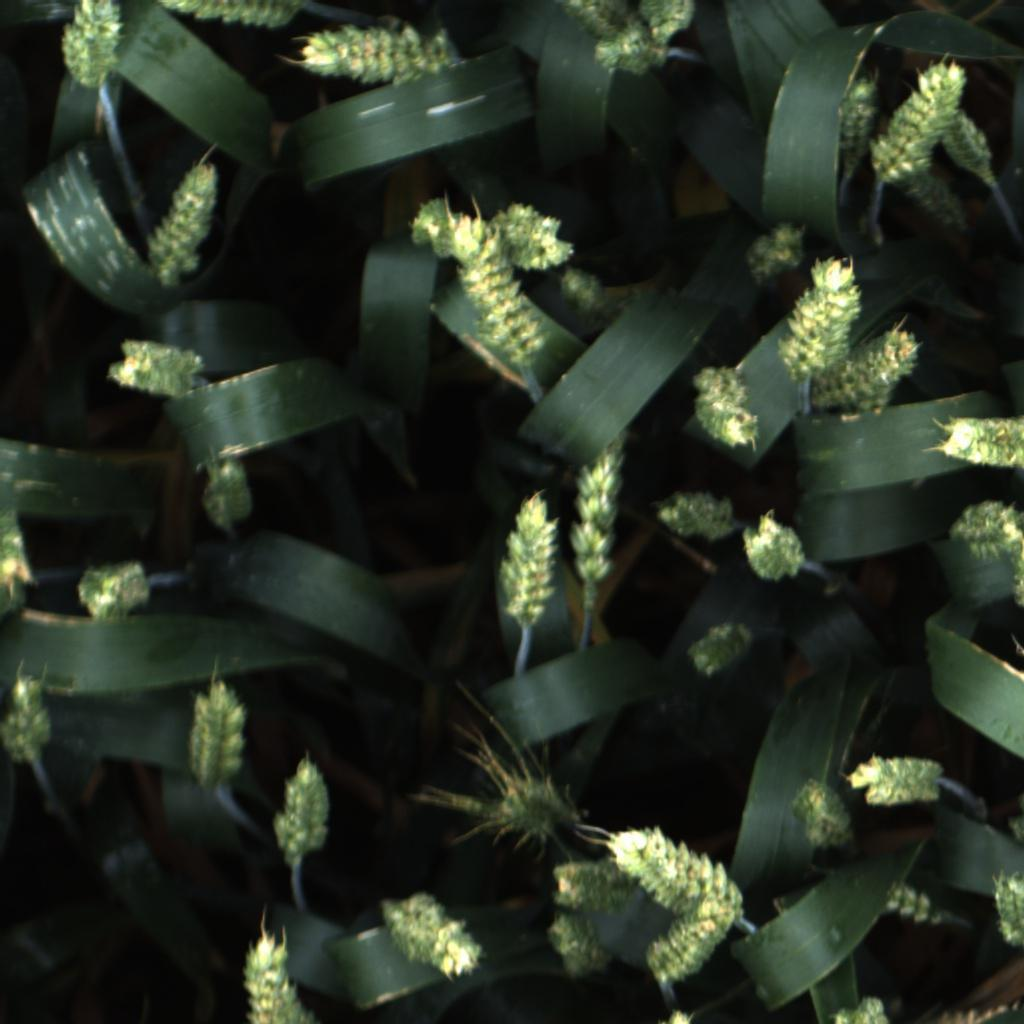0-0: (606, 824, 747, 930), (452, 213, 549, 364), (871, 56, 977, 177), (805, 326, 923, 424), (291, 20, 460, 88), (488, 488, 564, 630), (141, 159, 221, 293), (563, 435, 628, 593), (780, 255, 863, 376), (378, 886, 484, 978), (638, 900, 735, 986), (184, 678, 250, 796), (235, 933, 317, 1024), (687, 365, 766, 456), (852, 741, 949, 814), (269, 752, 333, 862), (104, 335, 205, 399), (55, 1, 127, 90), (537, 855, 645, 911), (488, 202, 575, 271), (942, 404, 1024, 477), (71, 552, 156, 622), (789, 776, 860, 859), (737, 509, 812, 587), (491, 776, 576, 841), (944, 495, 1024, 561), (149, 0, 308, 33), (652, 488, 738, 547), (744, 214, 811, 288), (831, 73, 880, 174), (594, 19, 672, 82), (5, 663, 55, 760), (197, 451, 260, 526), (546, 917, 614, 985), (685, 618, 753, 686), (554, 0, 651, 46), (941, 107, 1002, 180), (893, 178, 973, 233), (401, 194, 456, 262), (981, 872, 1024, 954), (878, 874, 937, 929), (558, 263, 610, 319), (638, 0, 701, 44), (828, 990, 891, 1024), (932, 1001, 1021, 1024), (1009, 552, 1024, 608), (1005, 812, 1023, 841), (661, 1009, 692, 1023)
